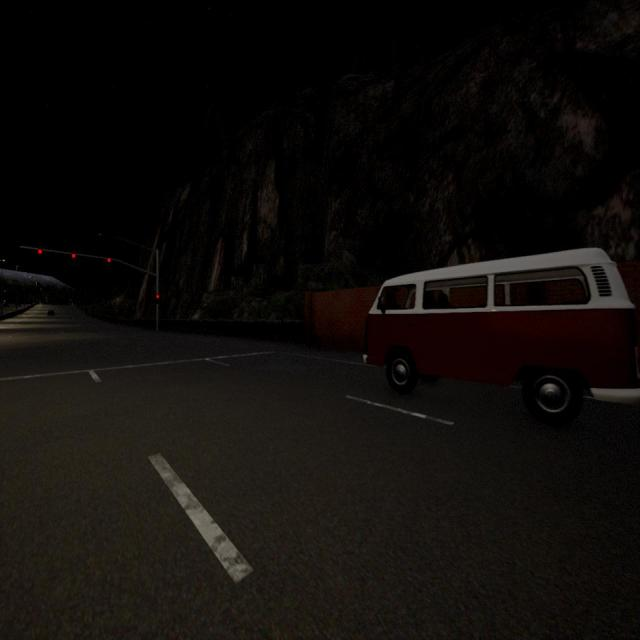Vehicle: (362, 246, 640, 417), (47, 308, 55, 318)
traffic_light: (72, 253, 76, 264), (38, 249, 42, 259), (107, 258, 111, 268), (156, 294, 160, 304)
